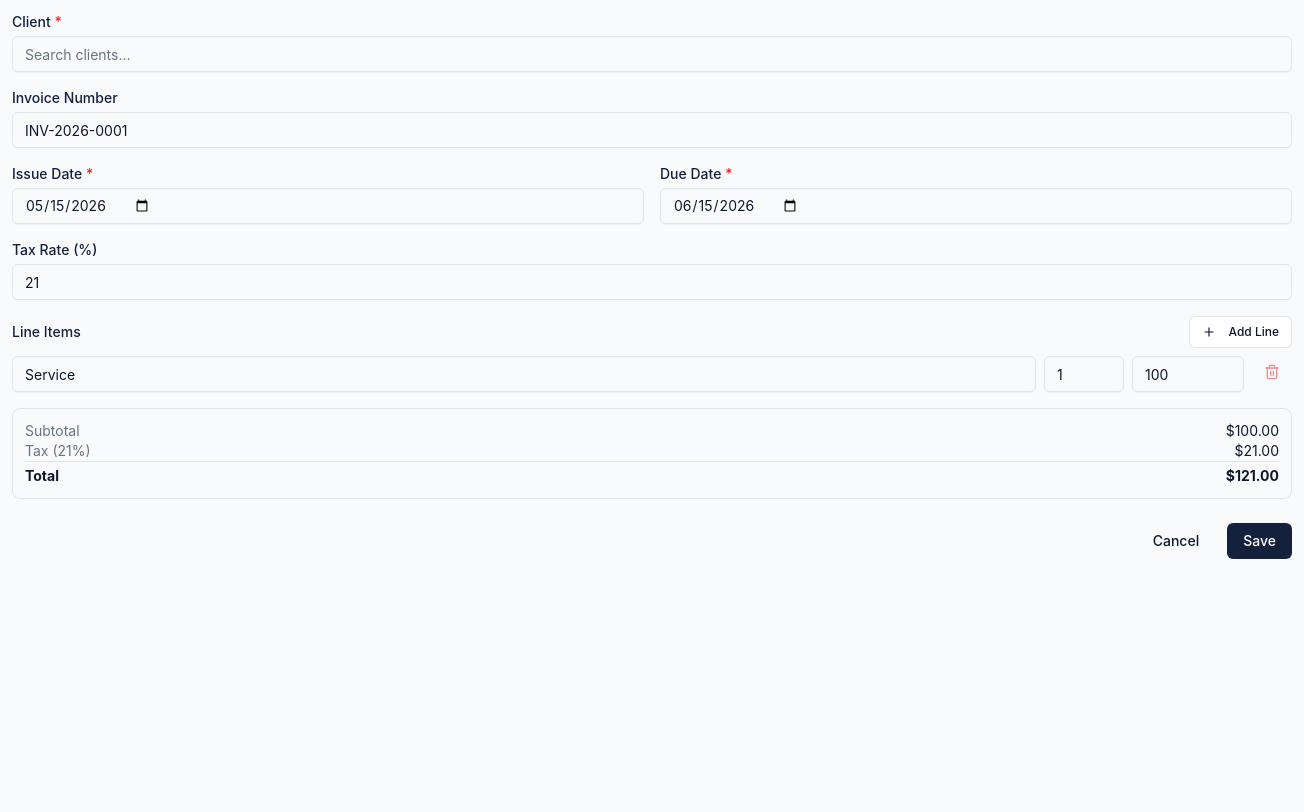
InvoiceForm › shows error when server returns INVOICE_NUMBER_TAKEN
Click the button with test id "btn-submit".
click(1260, 541)  # box [1227, 523, 1292, 559]
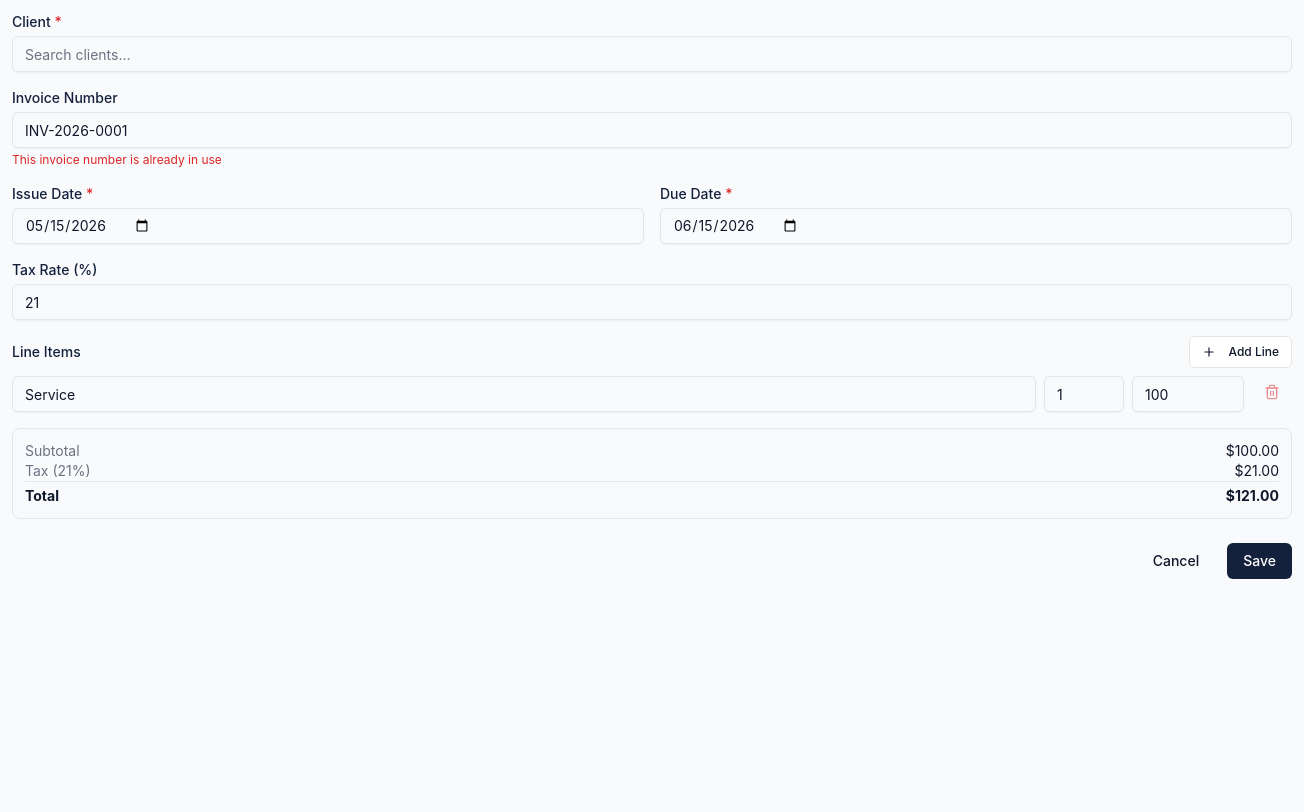
Expected: the message "This invoice number is already in use" is shown, [12, 152, 222, 167]
